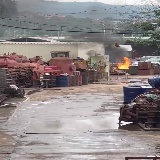fire: (118, 57, 130, 69)
